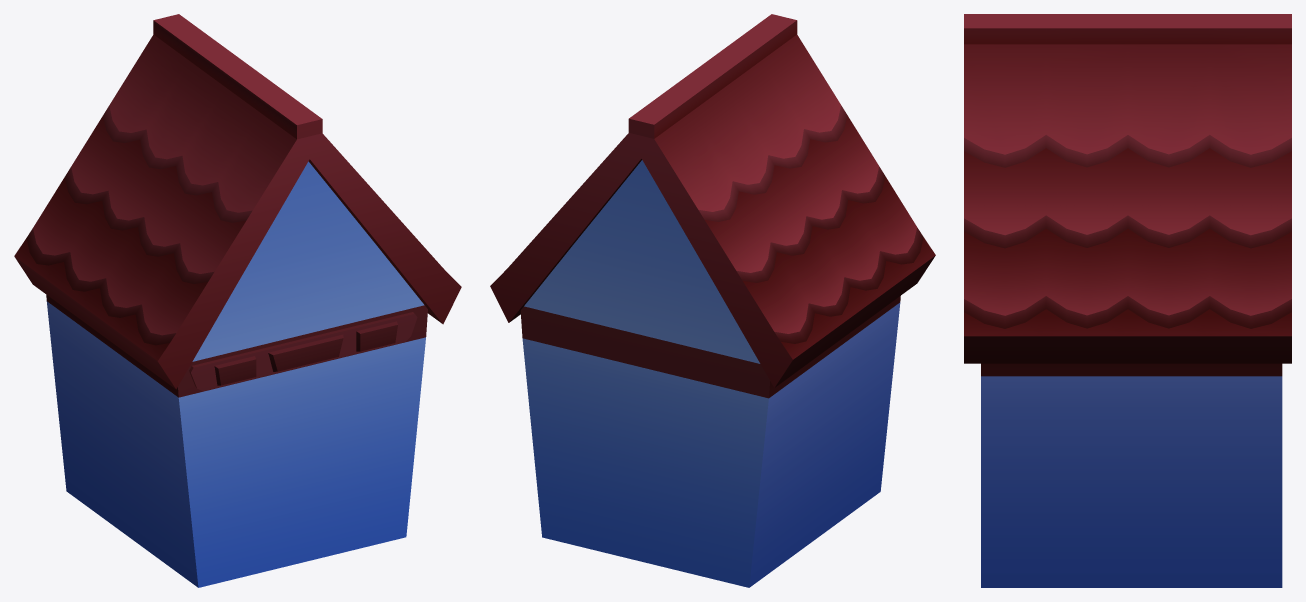
File: Building_Main_02A.fbx
3 views of the same model, side by side, from view 1: azimuth 30°, elevation 25°; view 2: azimuth 150°, elevation 25°; view 3: azimuth 270°, elevation 25° (orthographic). The views are drawn at different scales.
Parts seen in each view (by area): view 1: Building_Main_02A; view 2: Building_Main_02A; view 3: Building_Main_02A.
Part boxes in pixels (bbox=[...]): Building_Main_02A: bbox=[14, 14, 461, 587]; Building_Main_02A: bbox=[490, 14, 935, 587]; Building_Main_02A: bbox=[964, 14, 1291, 587].
Size of the model in its own units: 585 by 819 by 478.
2 materials, 2 textured.
